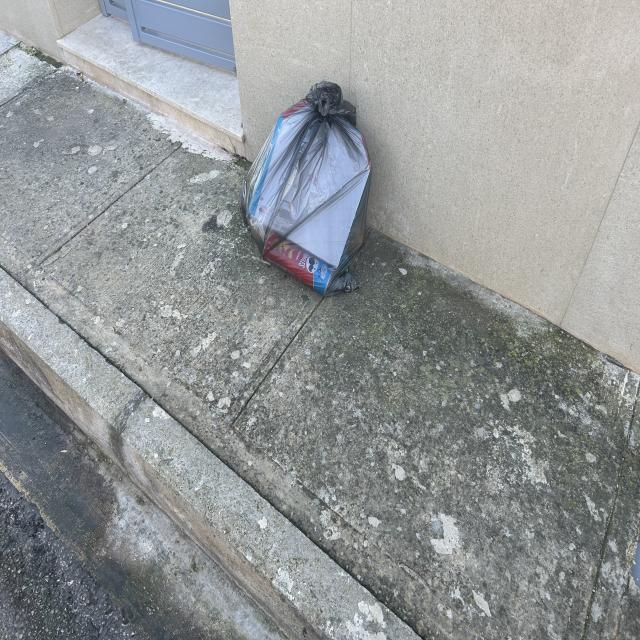black_bag: (236, 77, 374, 297)
